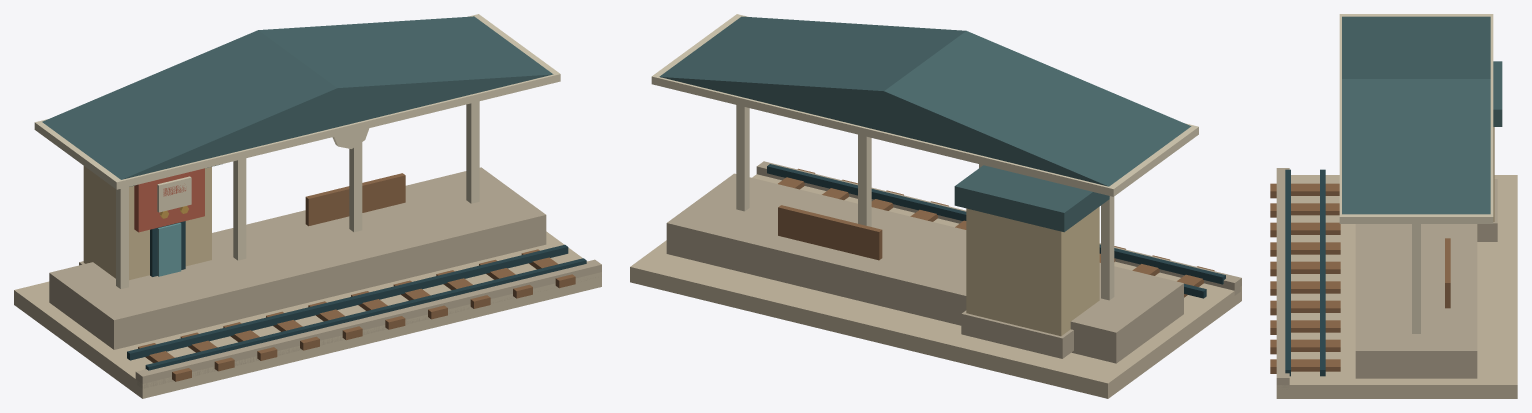
File: train-station-sunrise-complete.glb
3 renders of one model, left to right at view 1: azimuth 30°, elevation 25°; view 2: azimuth 150°, elevation 25°; view 3: azimuth 270°, elevation 25°, orthographic. The views are drawn at different scales.
Parts seen in each view (by area): view 1: train-station; view 2: train-station; view 3: train-station.
Part boxes in pixels (x1,y1,x2,y2): train-station: (14, 14, 601, 398); train-station: (630, 14, 1241, 398); train-station: (1270, 14, 1517, 398).
Bounding box in the file's own units: 3.88 × 1.85 × 1.93.
